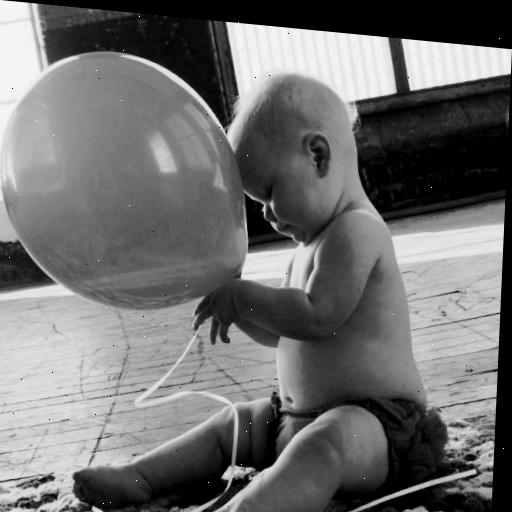balloon: (0, 43, 258, 315)
